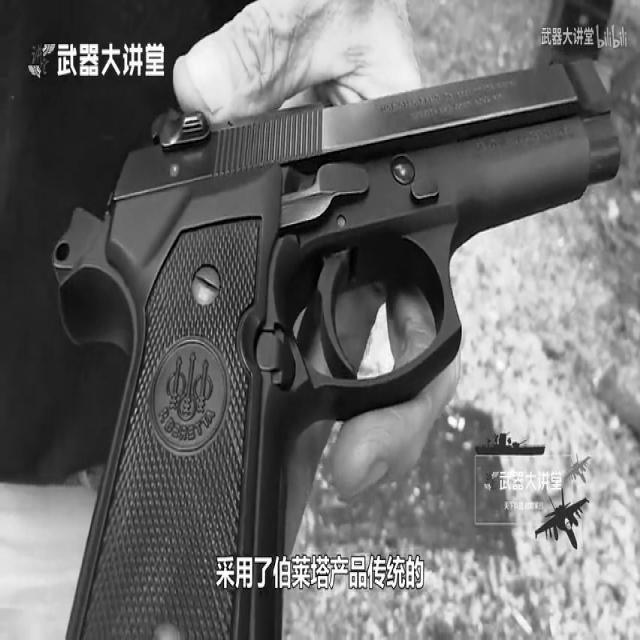Hand-Gun: (38, 23, 630, 640)
